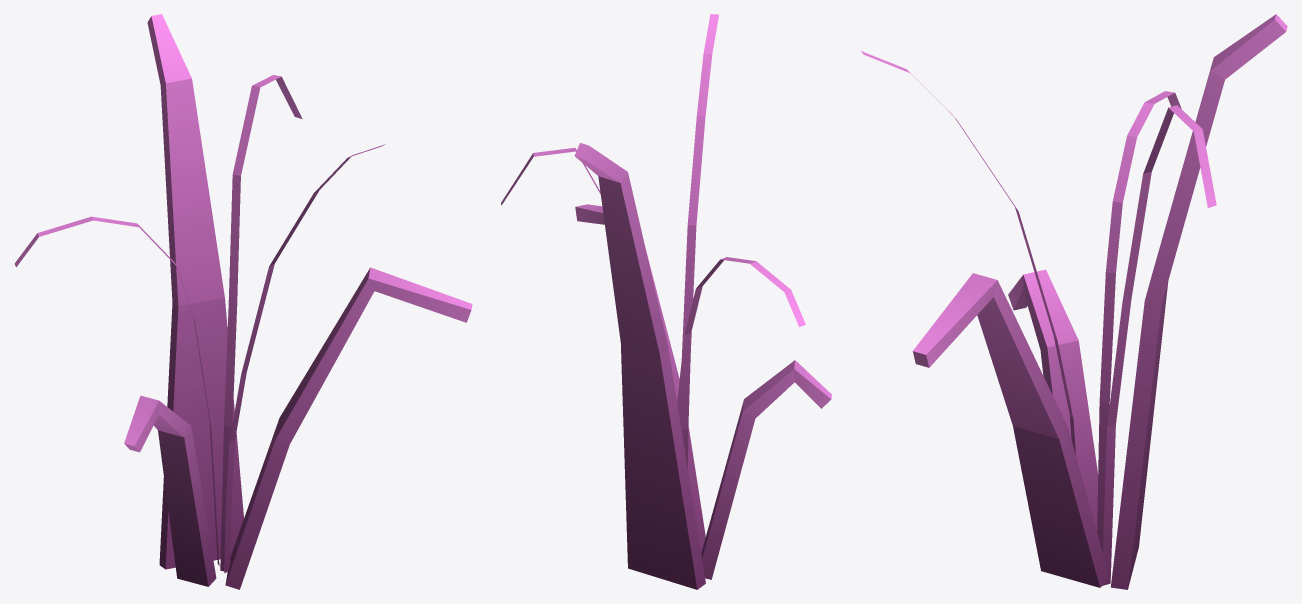
The model's file is SpringGrass1.fbx.
The picture shows the model from 3 angles, left to right: view 1: azimuth 30°, elevation 25°; view 2: azimuth 150°, elevation 25°; view 3: azimuth 270°, elevation 25°; orthographic projection. The views are drawn at different scales.
Visible parts, largest first — view 1: SpringGrass1; view 2: SpringGrass1; view 3: SpringGrass1.
Boxes of the visible parts, x1,y1,x2,y2 form: SpringGrass1: (14, 14, 472, 589); SpringGrass1: (501, 14, 831, 589); SpringGrass1: (861, 14, 1287, 589).
Bounding box in the file's own units: 132 × 182 × 123.
